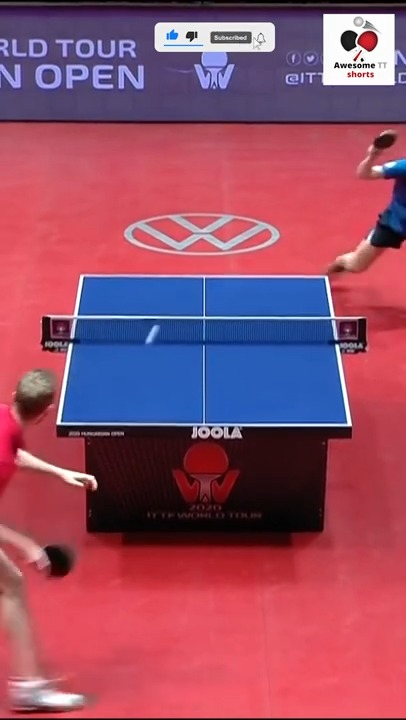Ball: (143, 323, 161, 347)
